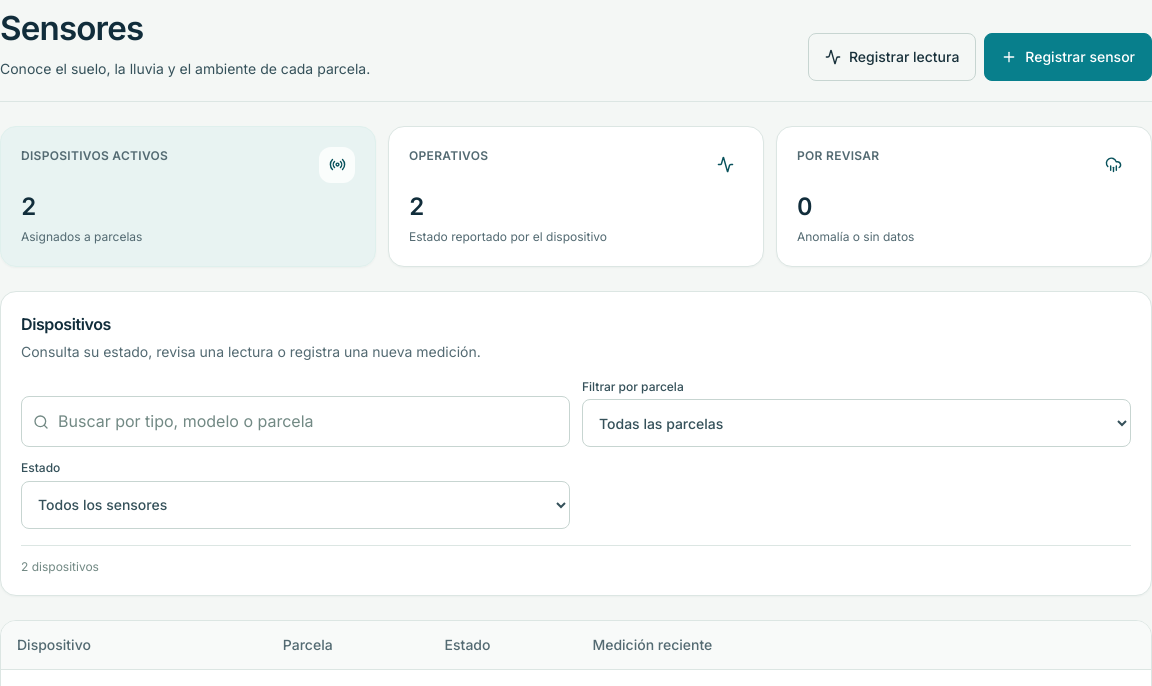
Test: Sensores › filtra el inventario por parcela y muestra detalle de una lectura
Expected: the heading "Dispositivos" is shown, [21,314,111,334]
Select "El Molino" in the dropdown labelled "Filtrar por parcela" at (856, 423), box [582,399,1131,447]
(page scrolled)
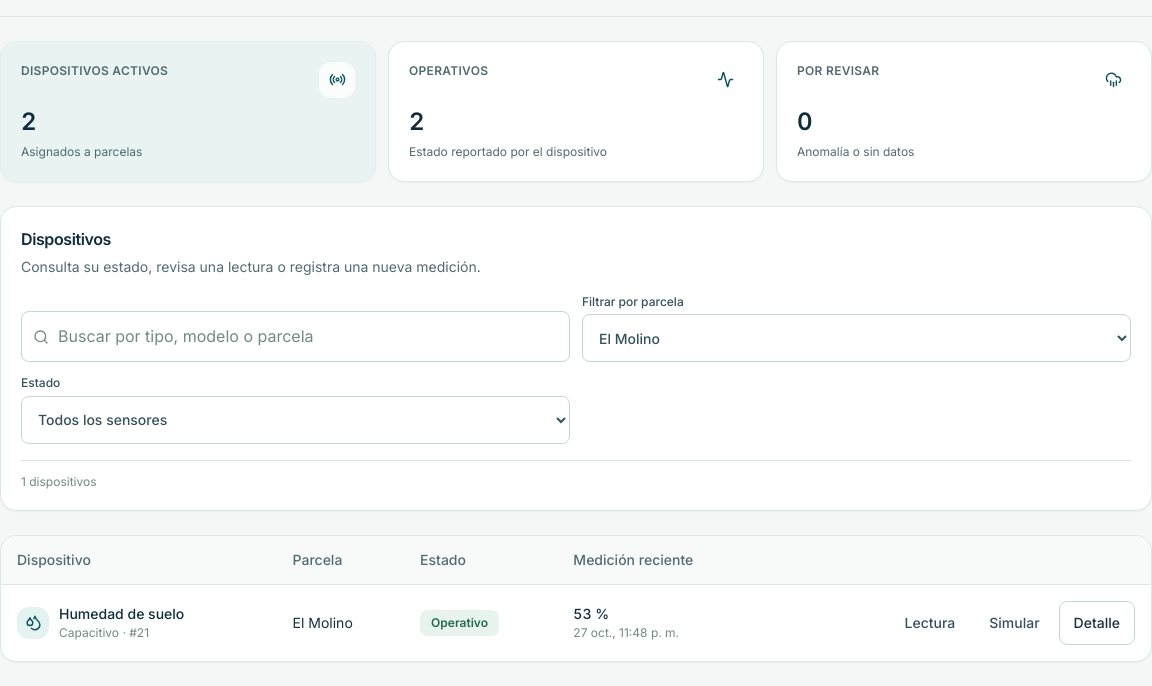
Expected: the text "Capacitivo · #21" is shown, [59,625,149,640]
Click the button "Detalle" at (1097, 622), box [1059,600,1135,644]
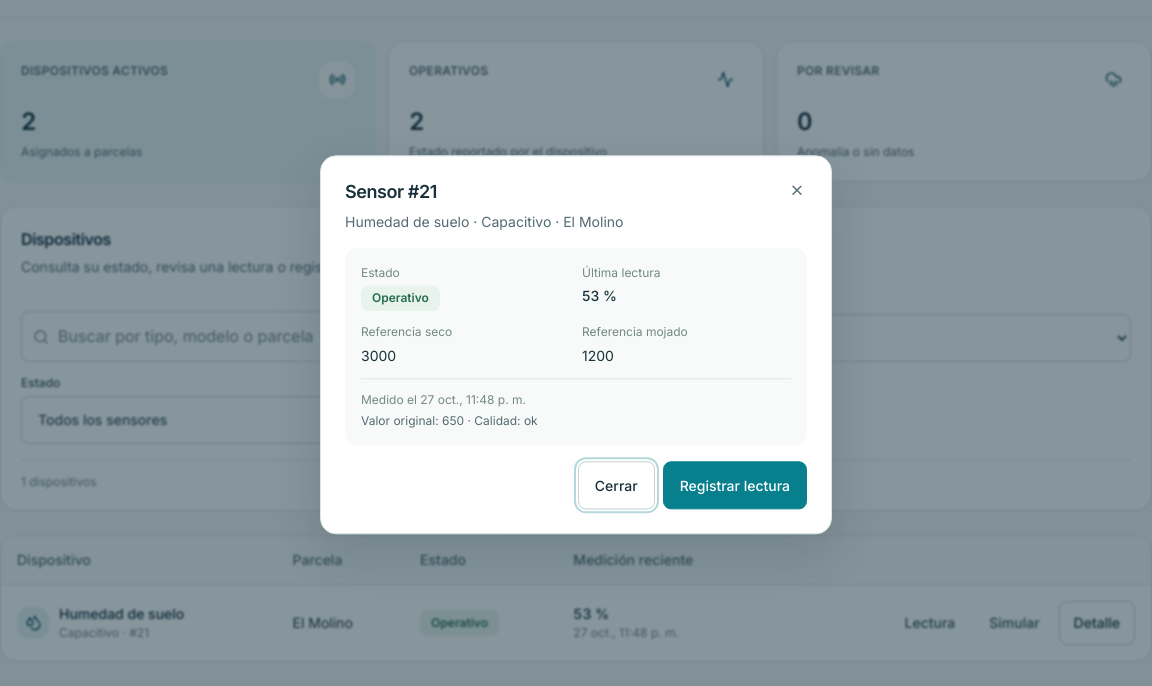
Expected: the text "53 %" is shown, [582,288,617,304]
Expected: the text "Medido el 27 oct., 11:48 p. m." is shown, [361,392,526,407]
